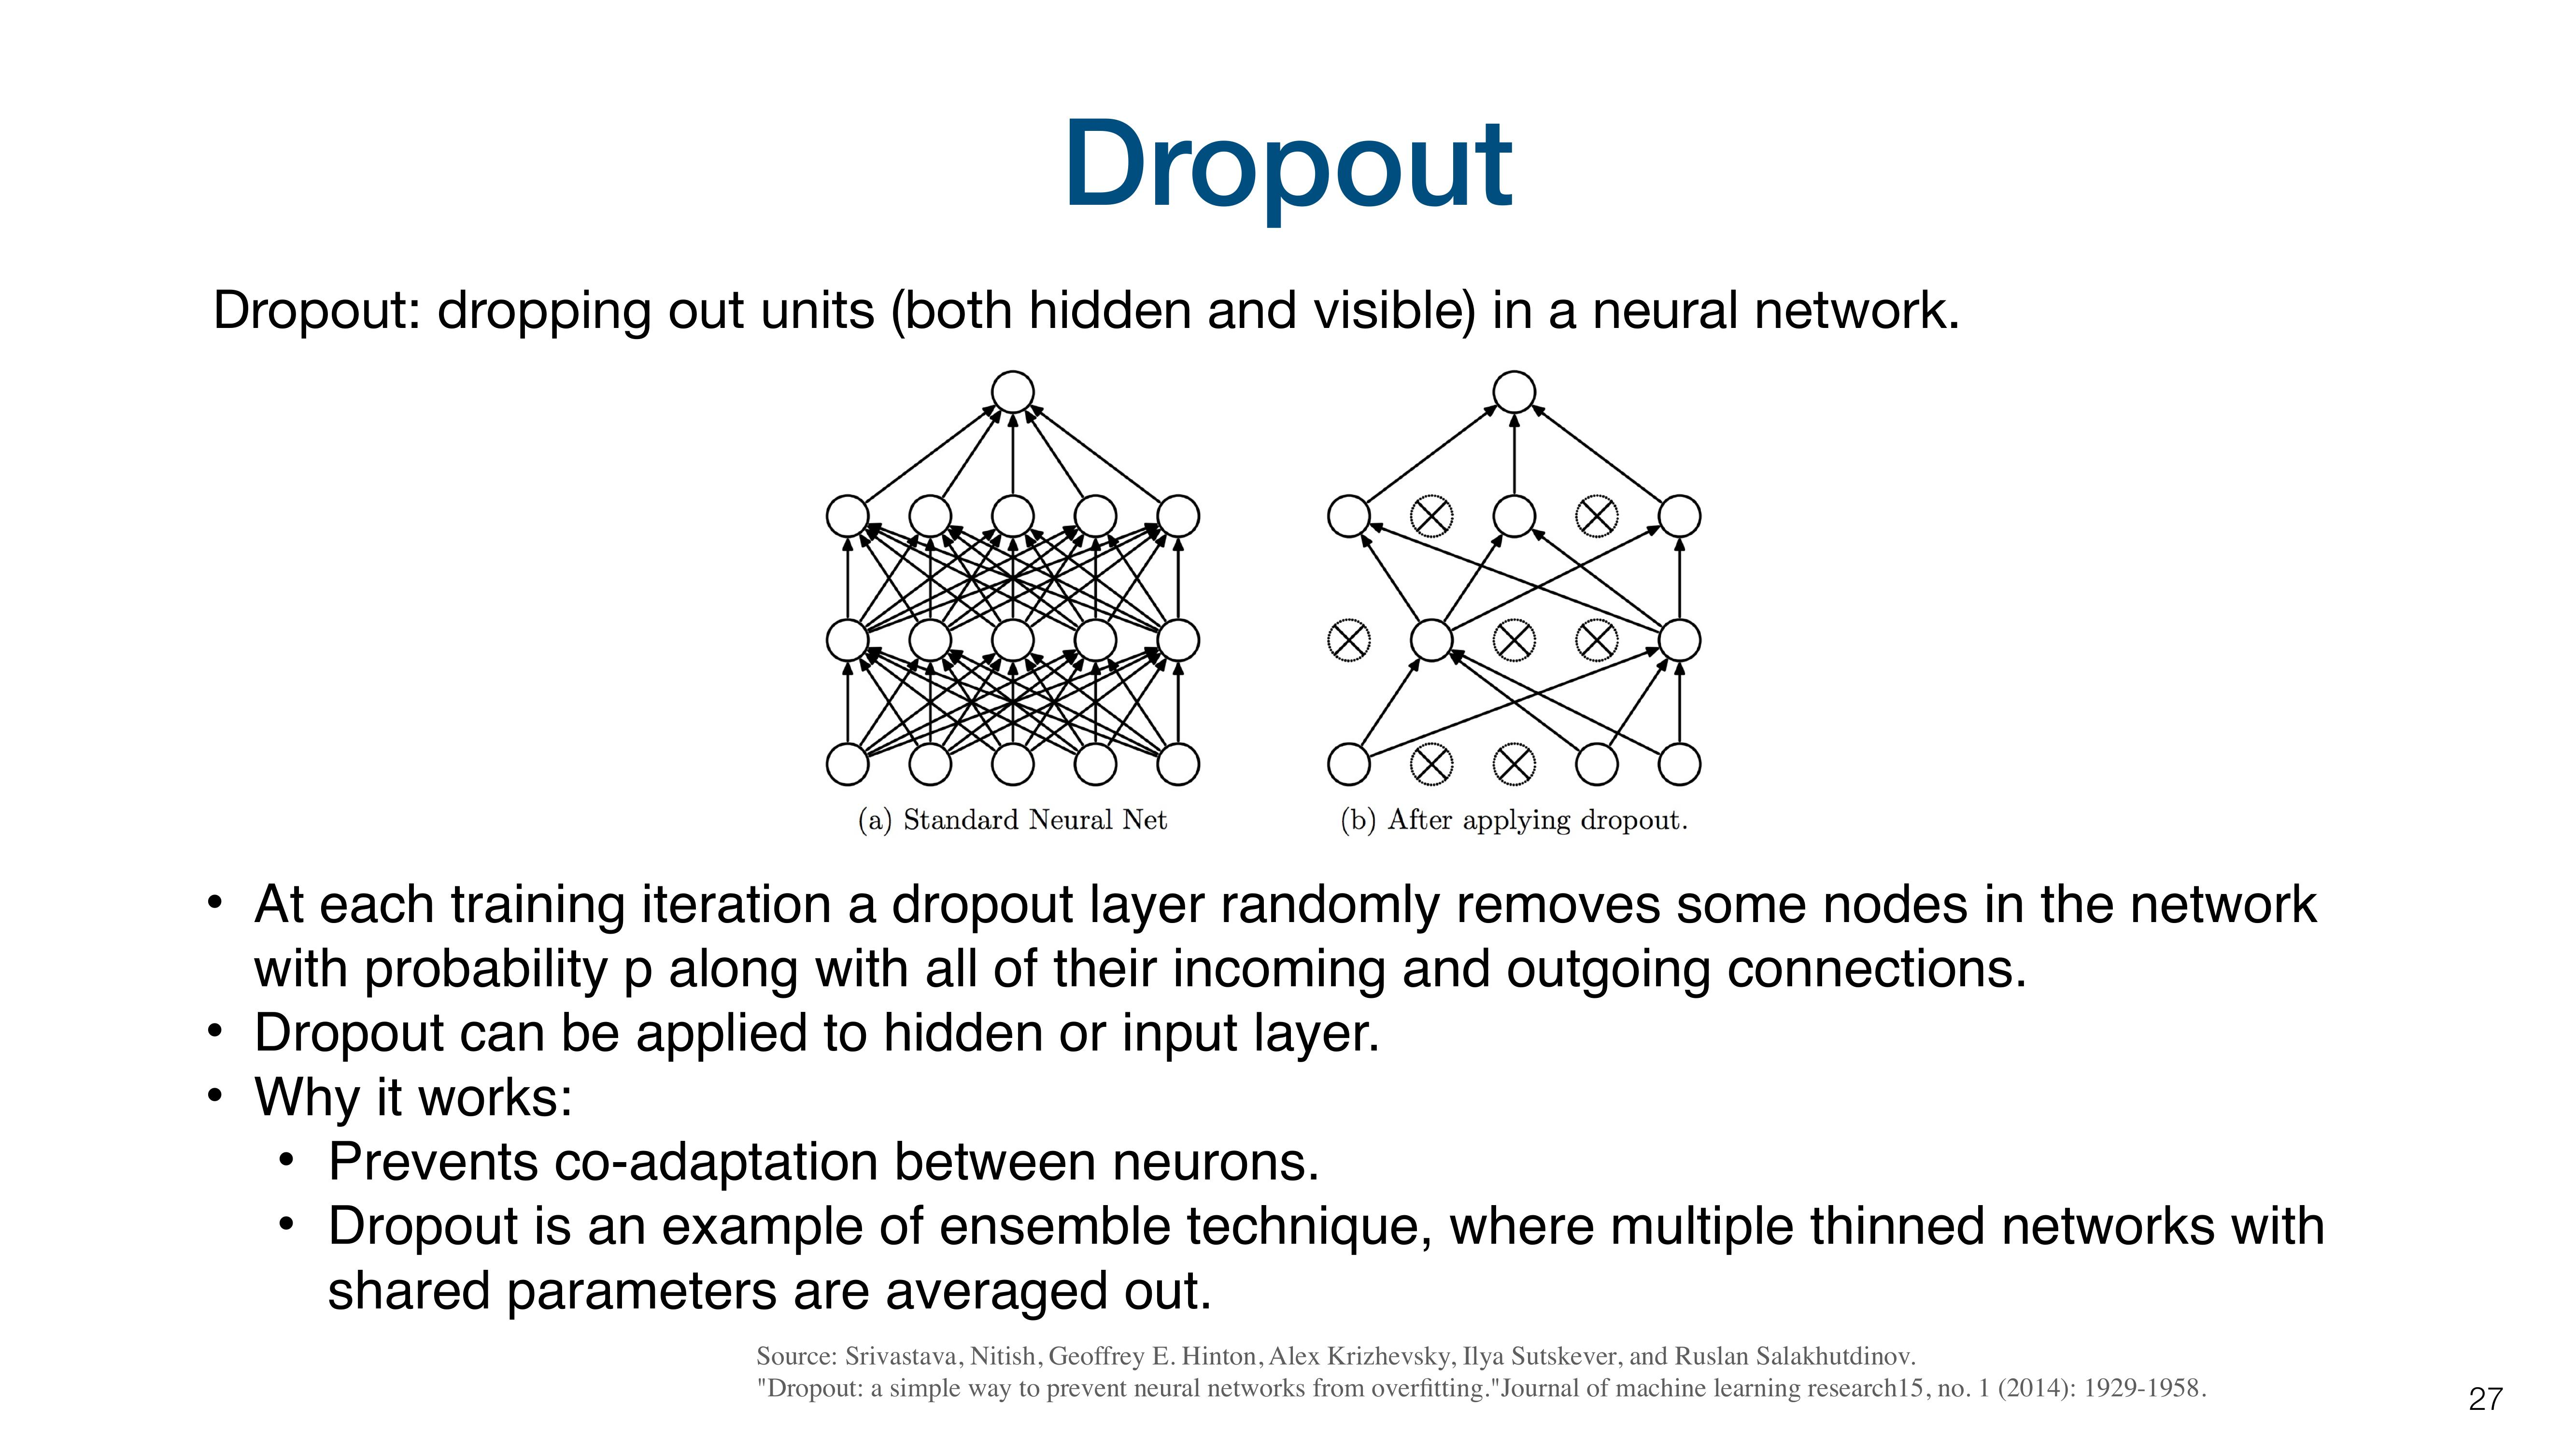Title: (1053, 103, 1514, 242)
